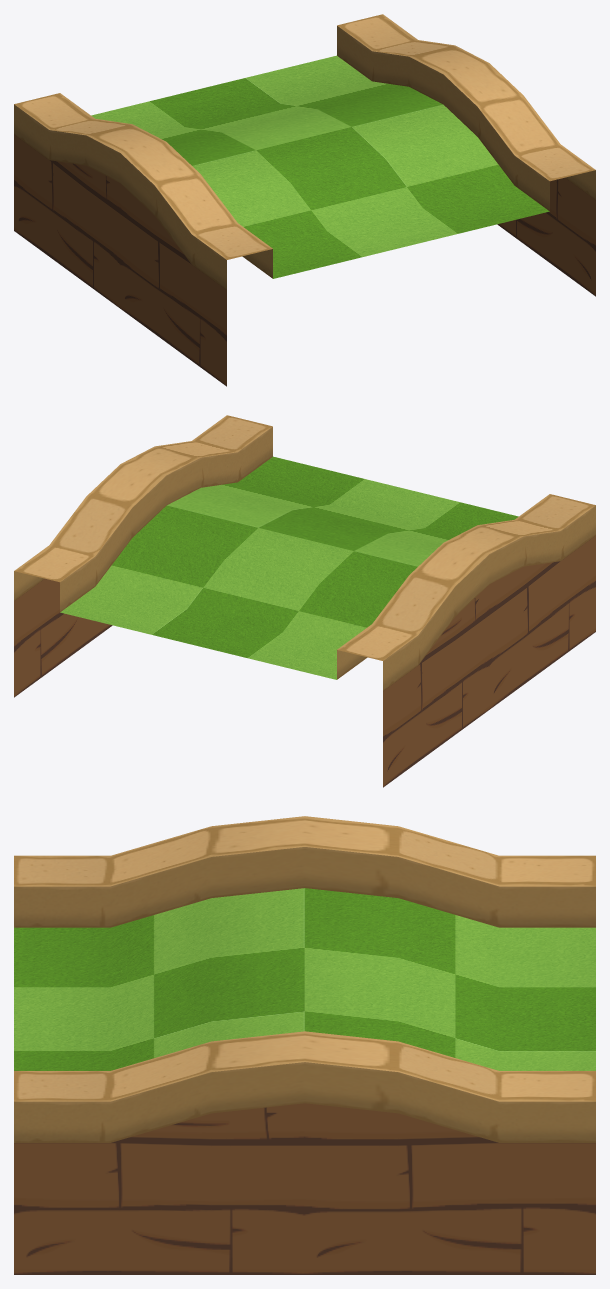
File: tile10.FBX
3 renders of one model, top to bottom at view 1: azimuth 30°, elevation 25°; view 2: azimuth 150°, elevation 25°; view 3: azimuth 270°, elevation 25°, orthographic. The views are drawn at different scales.
Visible parts, largest first — view 1: tile10_walls, tile10_floor; view 2: tile10_walls, tile10_floor; view 3: tile10_walls, tile10_floor.
Part boxes in pixels (x1,y1,x2,y2): tile10_walls: [14, 14, 595, 386]; tile10_floor: [91, 55, 549, 278]; tile10_walls: [14, 415, 595, 787]; tile10_floor: [60, 456, 518, 679]; tile10_walls: [14, 816, 595, 1274]; tile10_floor: [14, 888, 595, 1070].
Size of the model in its own units: 1280 by 516 by 1280.
